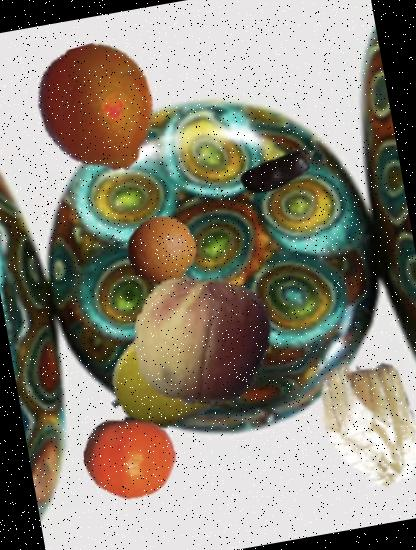Apple: (122, 263, 280, 422)
Clementine: (76, 404, 183, 511)
Eggplant: (232, 121, 330, 220)
Maracuja: (97, 303, 241, 448)
Orange: (121, 209, 202, 290)
Physalis: (293, 347, 416, 501)
Tangelo: (20, 34, 173, 186)
